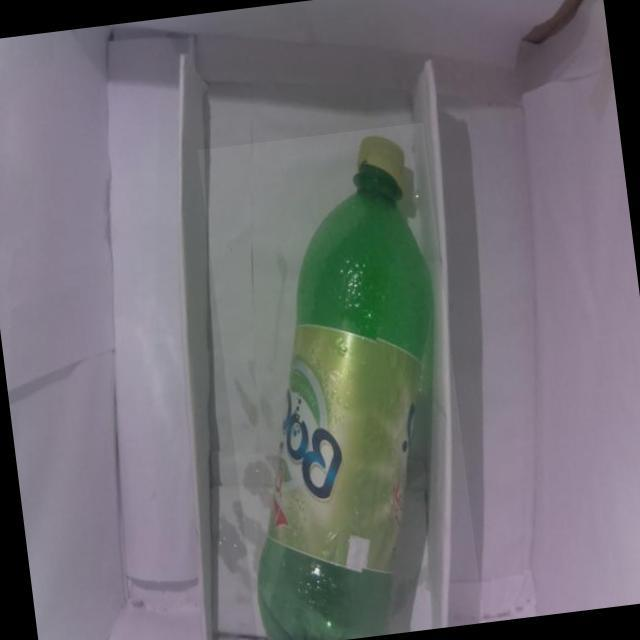good: (196, 121, 483, 640)
